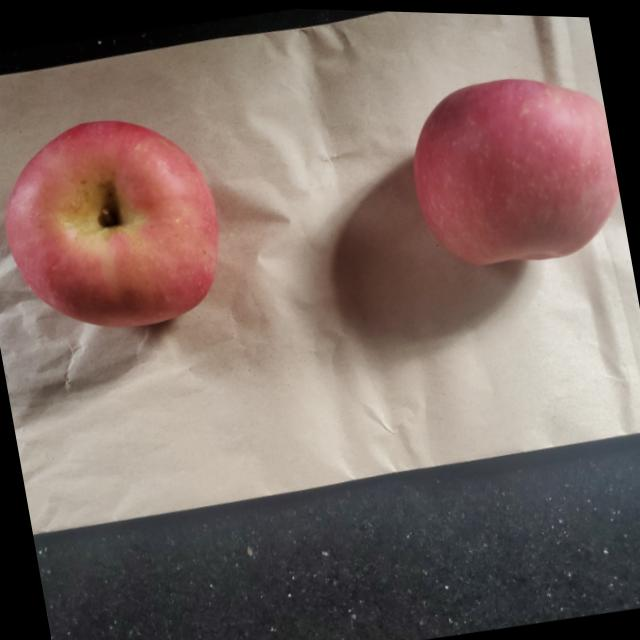apple: (0, 96, 233, 343), (399, 55, 626, 275)
